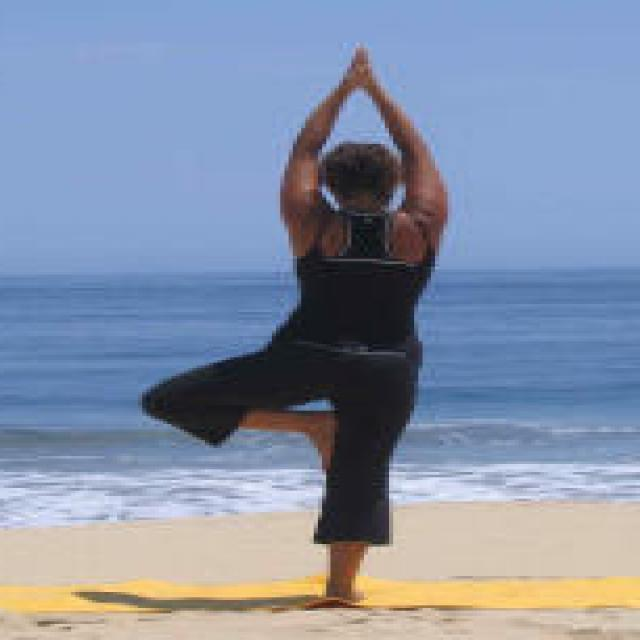yoga-pose tree: (136, 39, 456, 604)
